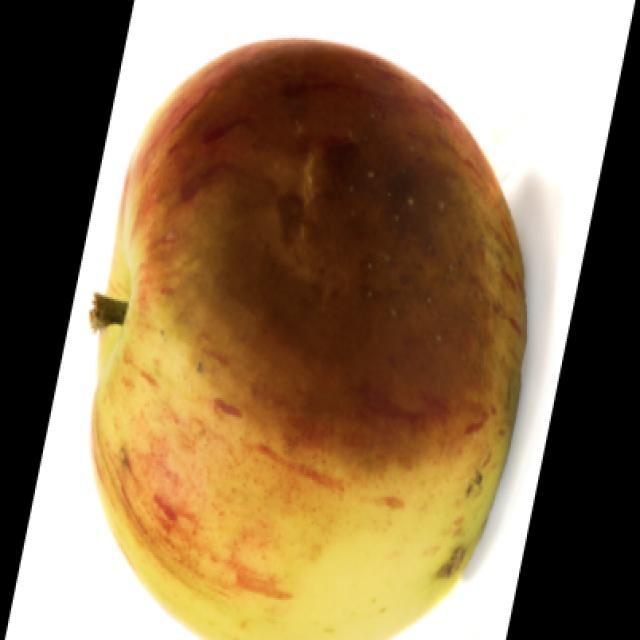Rotten: (100, 52, 532, 638)
